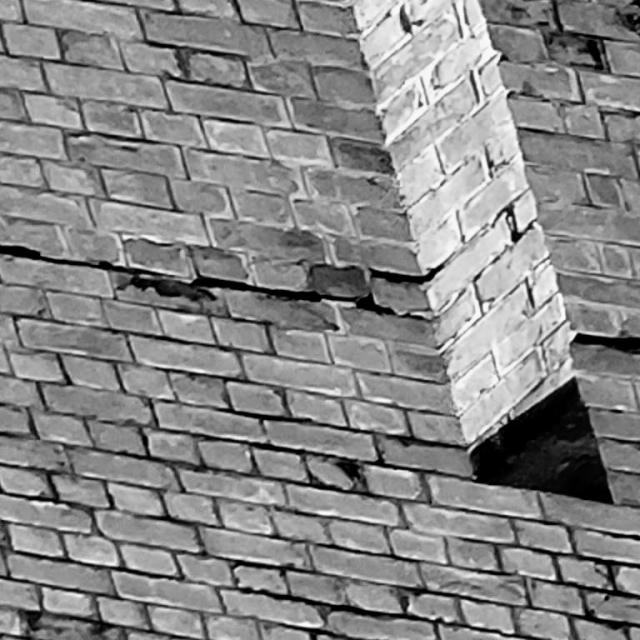crack: (1, 244, 444, 318), (573, 333, 640, 352)
